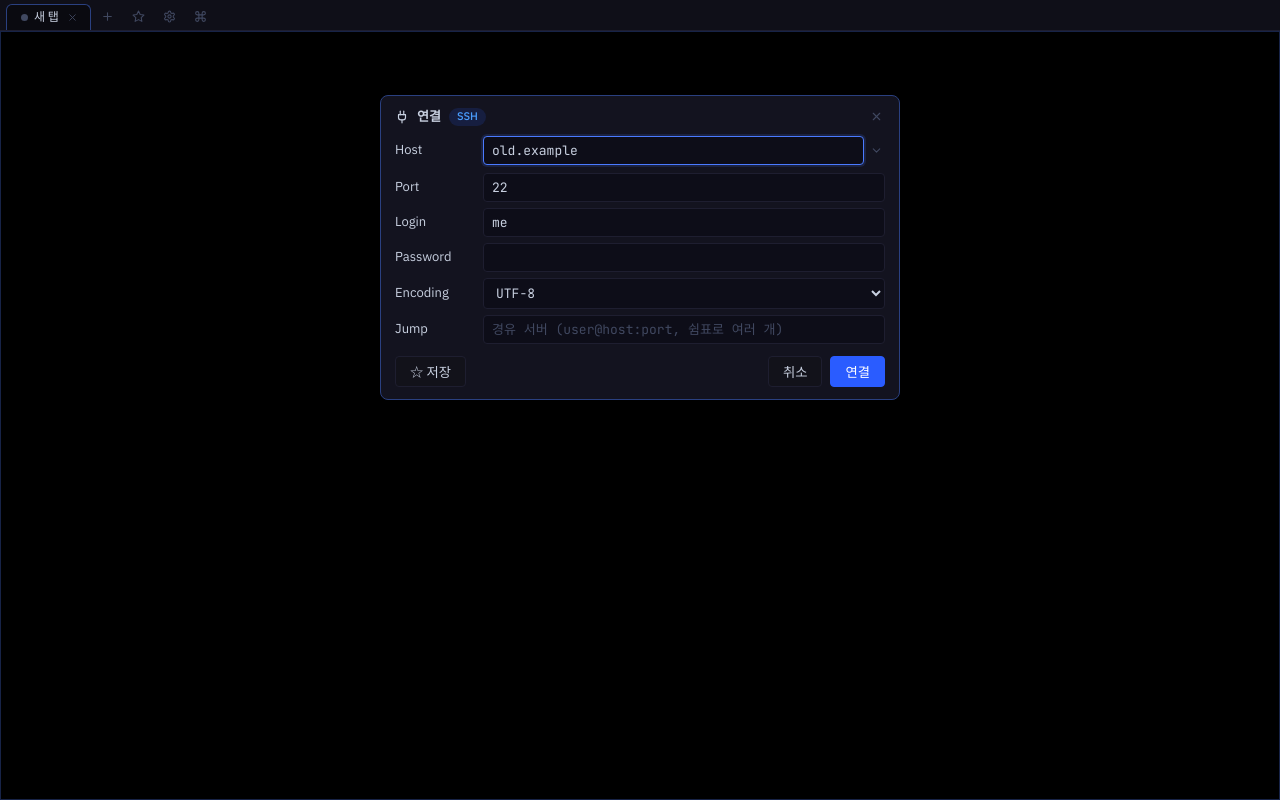
Test: TerminalWorkspace (TW) › TW-03: 로컬 셸 연결 — Connect(포트 0, UTF-8), 대화상자 닫힘, 탭 이름
Replace the text in the field labelled "Host" with "cmd" at (674, 150), box 483,136 -> 864,165
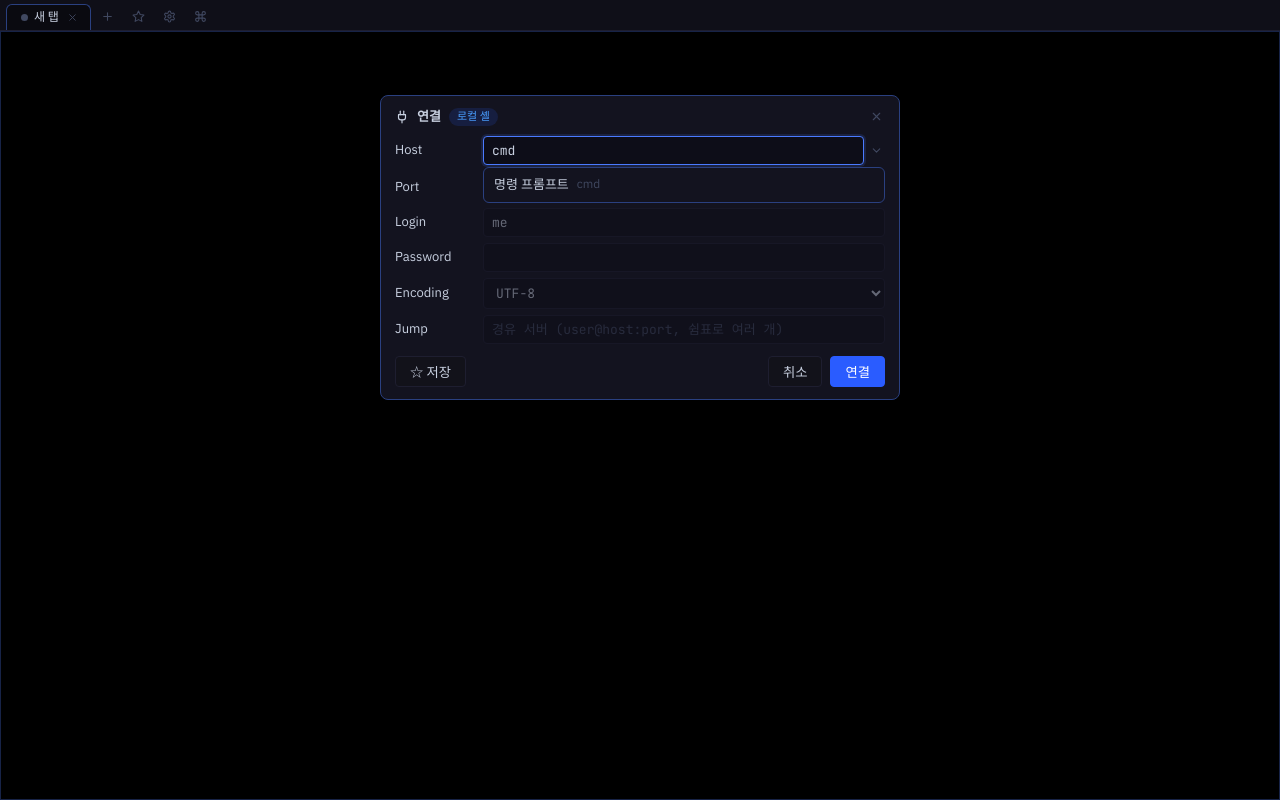
Submit the form labelled "Host", box 380,95 -> 900,400
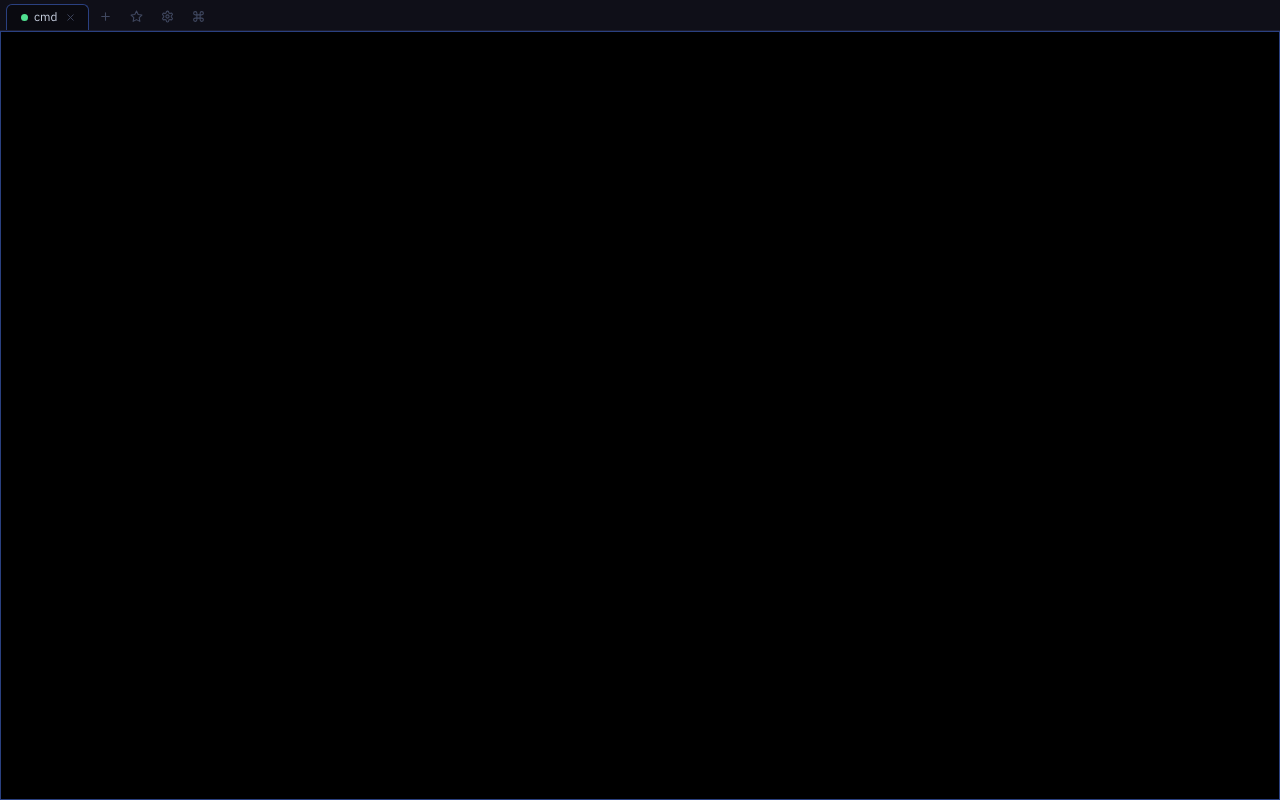
Check: the label labelled "Host" is gone
Check: the text "cmd" is shown, box 34,9 -> 58,26
